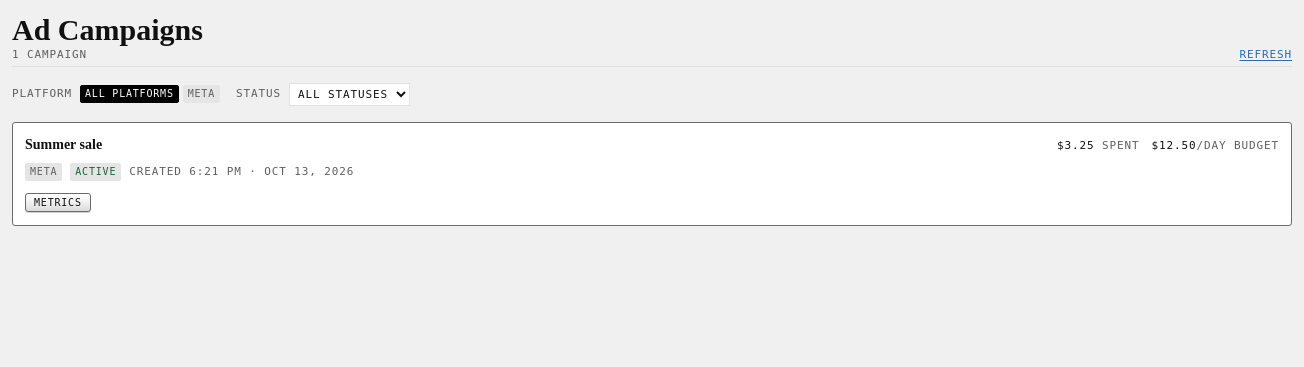
Test case: V25/L4 — ads revenue/ROAS render null and measured zero distinctly › dashes both summary numbers when NO day carries a measured revenue
Check: the element with test id "campaign-row" is shown, box left=12, top=122, right=1292, bottom=226
Click the button with test id "campaign-metrics-toggle-7" at (58, 203), box left=25, top=193, right=91, bottom=212
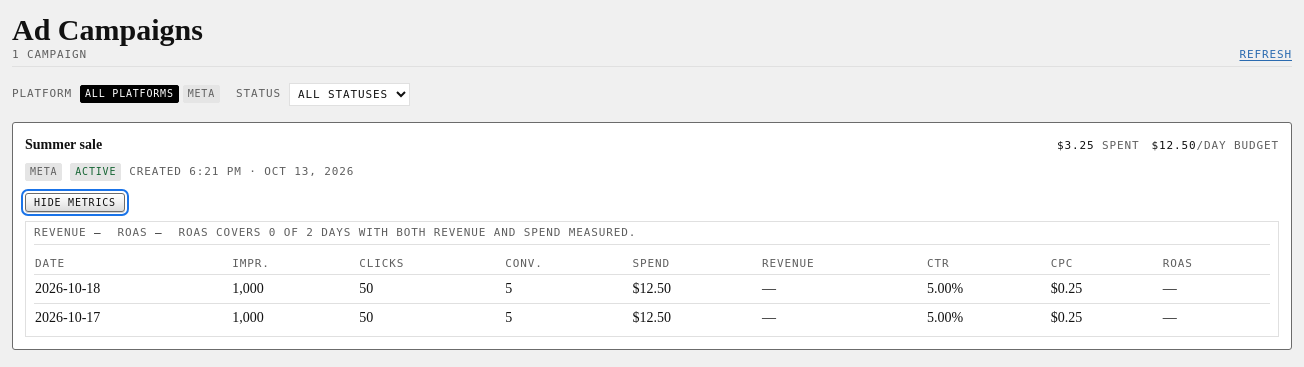
Check: the text with test id "campaign-revenue-7" reads "—", box left=94, top=226, right=102, bottom=239
Check: the text with test id "campaign-roas-7" reads "—", box left=155, top=226, right=163, bottom=239
